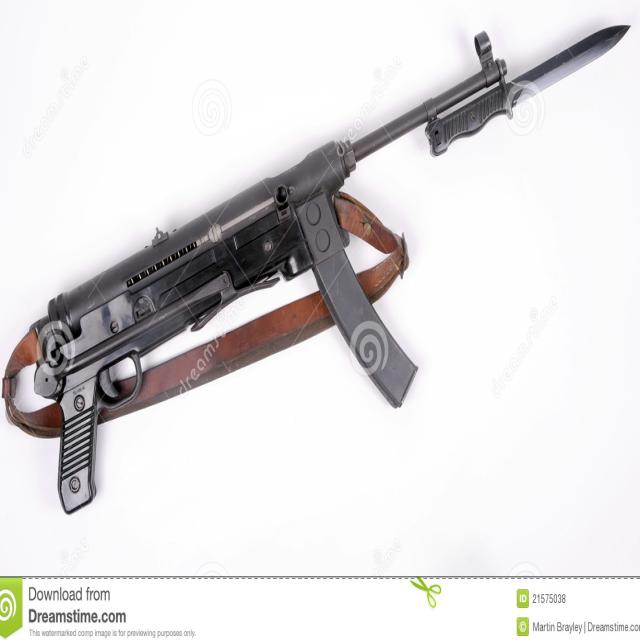Weapon: (3, 27, 627, 513)
